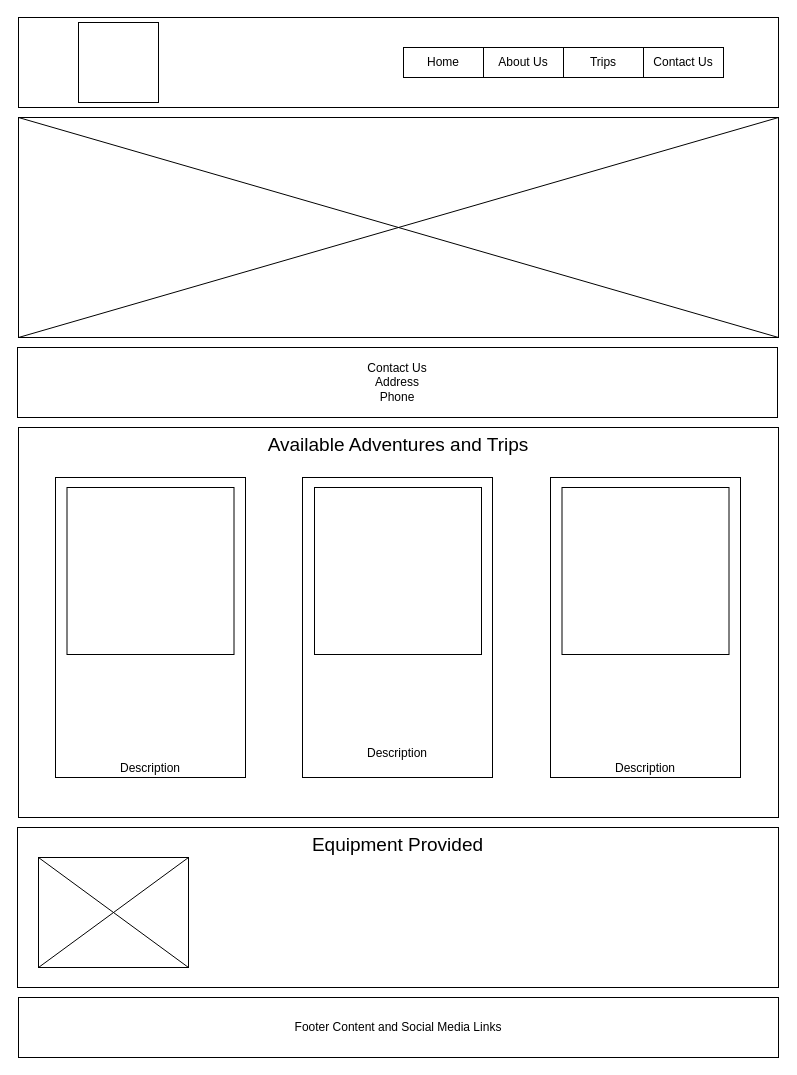
This 797x1075 diagram has some shape labels left out. The centre of each missing label's shape, as x and y in pixels:
Logo: (x=118, y=62)
Lone Tree Rafting: (x=398, y=227)
